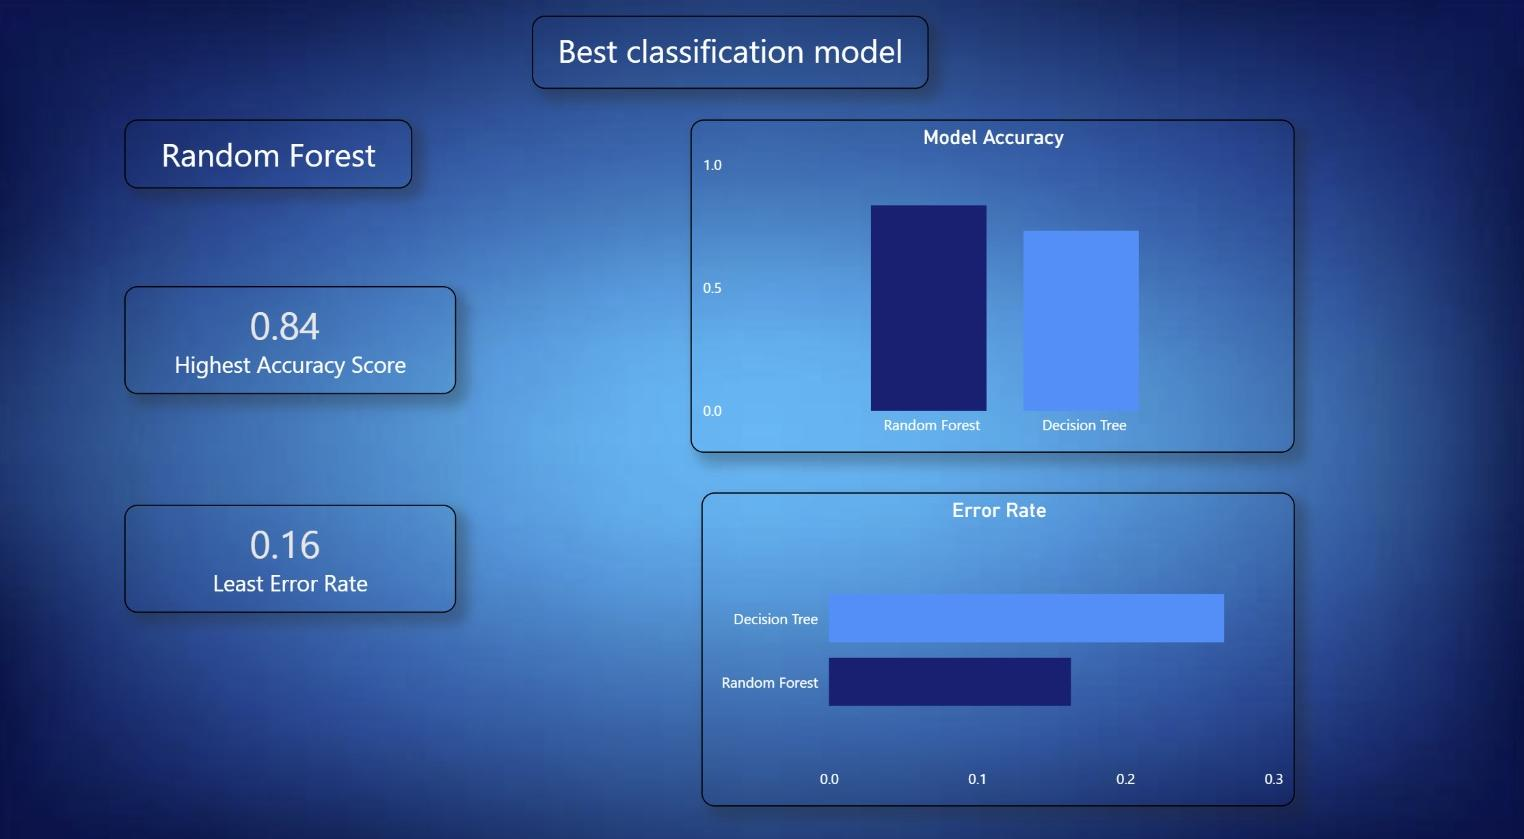

This screenshot's page, from the dashboard's own definition file:
{"tool":"powerbi","page":{"name":"Page 3","canvas":[1280,720],"ordinal":2},"visuals":[{"type":"textbox","box":[450,21.7,330.2,61.2],"z":0},{"type":"textbox","box":[110.9,108.4,239.7,57.4],"z":1},{"type":"textbox","box":[111,247,276.1,89.8],"z":5},{"type":"textbox","box":[111,429.3,276.1,89.8],"z":6},{"type":"columnChart","title":"Model Accuracy","fields":{"Category":["model_results_2.Model"],"Y":["Sum(model_results_2.Accuracy_score)"]},"box":[582.6,108.6,502.4,277.7],"z":7},{"type":"barChart","title":"Error Rate","fields":{"Y":["Sum(model_results_2.Error_rate)"],"Category":["model_results_2.Model"]},"box":[591.2,418.4,493.7,261.7],"z":8}]}

Visuals, with their boxes in screenshot pixels (x1, y1, x2, y2), scaled from the page's 1280x720 canvas onto the 1524x839 screenshot:
textbox: [536,25,929,97]
textbox: [132,126,417,193]
textbox: [132,288,461,392]
textbox: [132,500,461,605]
"Model Accuracy" columnChart: [694,127,1292,450]
"Error Rate" barChart: [704,488,1292,793]
